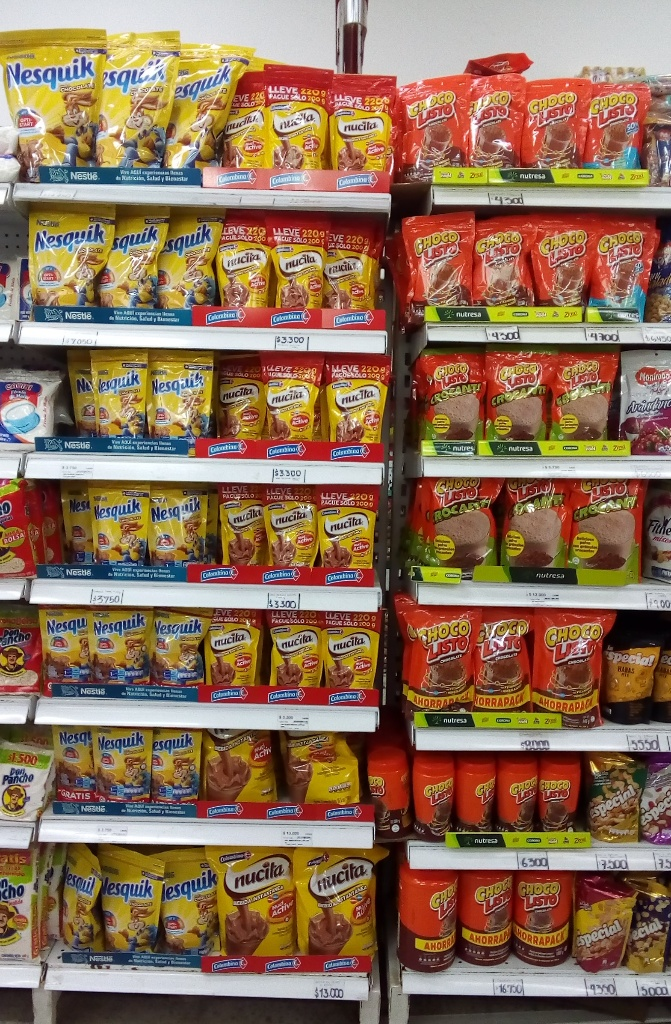COL0170102DYP25000: (552, 342, 624, 440)
COL0170102DYP50000: (572, 479, 648, 571)
COL0170103DYP44000: (541, 611, 613, 724)
COL0170103TRR00100: (508, 872, 571, 964)
COL0170103TRR30000: (540, 755, 585, 831)
COL0170104DYP20000: (580, 80, 651, 166)
COL0170303DYP20000: (151, 356, 211, 432)
